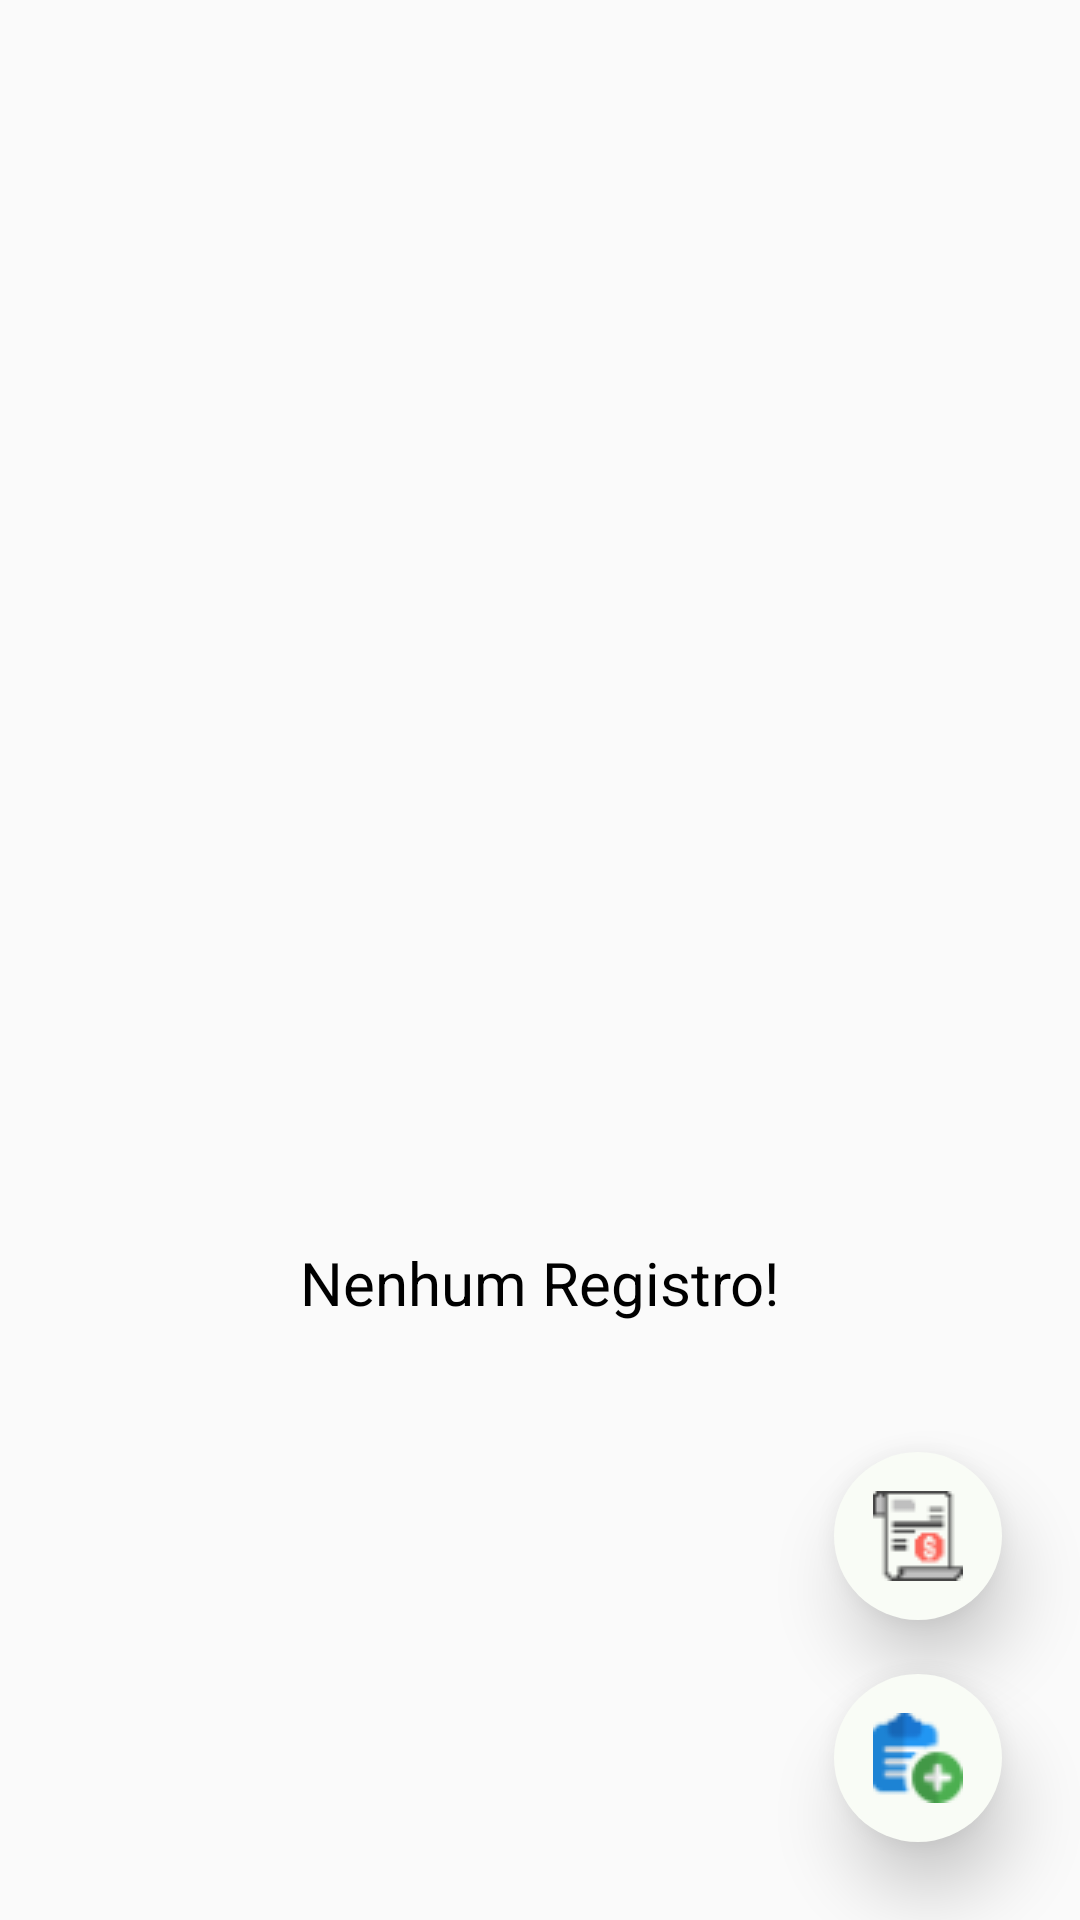

Icon click points for this 1080px x 1920px phone screenshot, format [x,y]:
contas add: [918,1758]
fatura: [918,1536]
